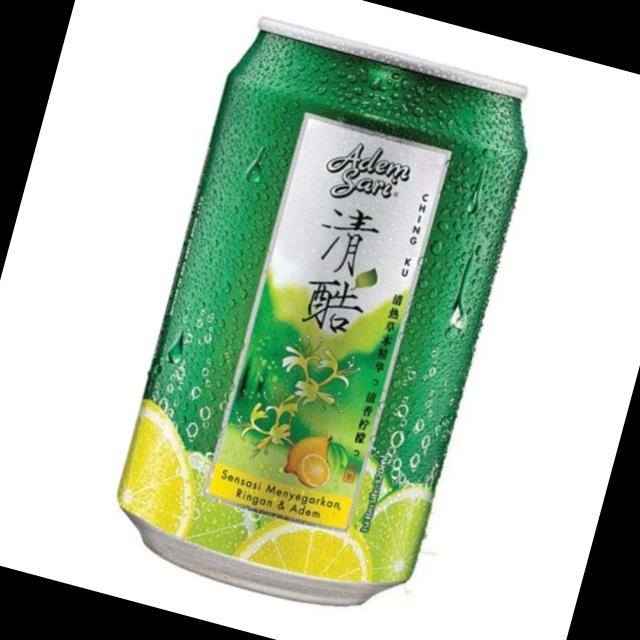ademsarikaleng: (97, 8, 546, 630)
